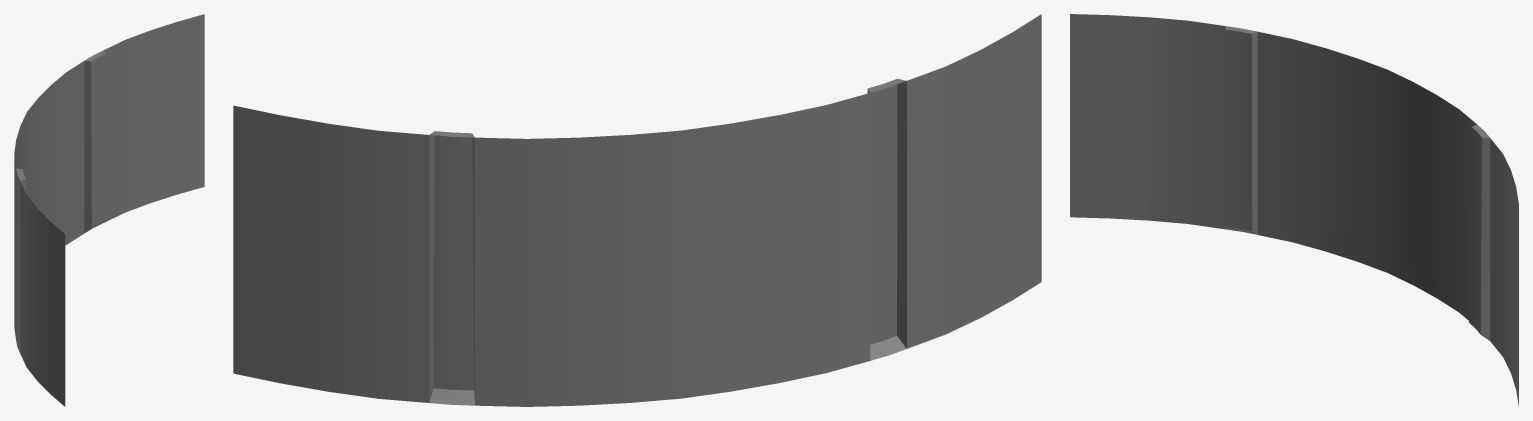
Rendered from q-scifi-mod-topastra-corner-round-inner.glb.
3 views of the same model, side by side, from view 1: azimuth 30°, elevation 25°; view 2: azimuth 150°, elevation 25°; view 3: azimuth 270°, elevation 25° (orthographic). The views are drawn at different scales.
Visible parts, largest first — view 1: TopAstra_Corner_Round_Inner; view 2: TopAstra_Corner_Round_Inner; view 3: TopAstra_Corner_Round_Inner.
Part boxes in pixels (left/top/right/bottom): TopAstra_Corner_Round_Inner: left=14, top=14, right=204, bottom=406; TopAstra_Corner_Round_Inner: left=233, top=14, right=1041, bottom=406; TopAstra_Corner_Round_Inner: left=1070, top=14, right=1518, bottom=406.
Size of the model in its own units: 4 by 2 by 4.
Materials: 3 (3 with a texture image).
